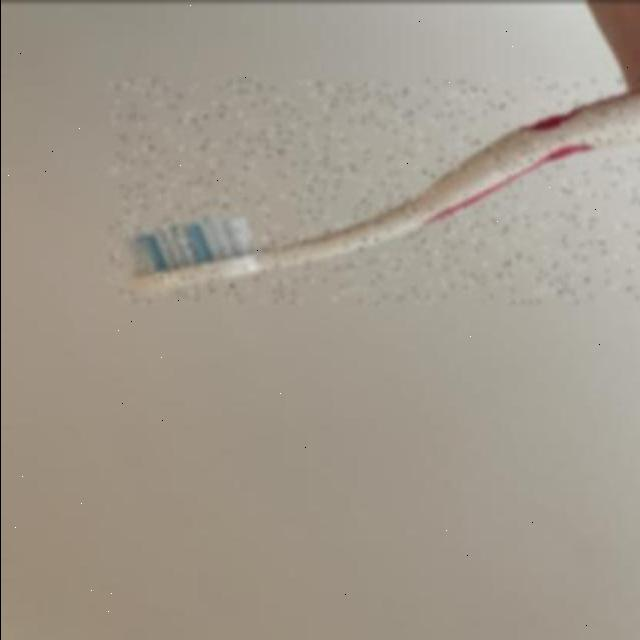toothbrush: (108, 77, 640, 301)
